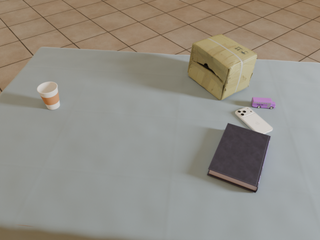book: (207, 123, 271, 193)
box: (188, 34, 257, 100)
cup: (37, 82, 60, 110)
phone: (235, 107, 273, 134)
toy_car: (251, 97, 275, 109)
